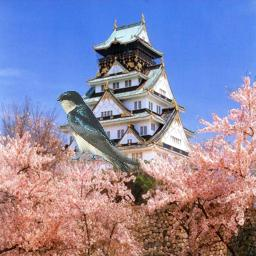Swallow: (55, 90, 140, 173)
